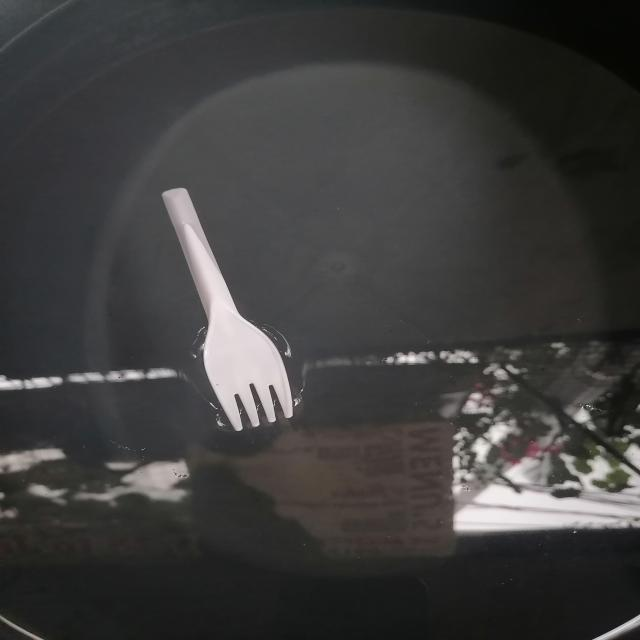Plastic Fork: (163, 188, 293, 431)
